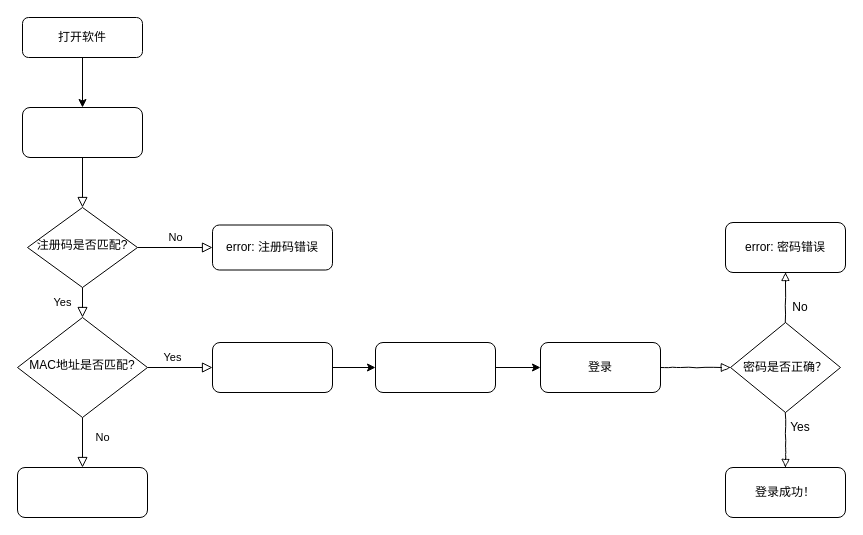
This 863x535 diagram has some shape labels left out. Each missing label, with the centre of its shape:
"error: 硬件地址不匹配" belongs at point (82, 492).
"注册" belongs at point (435, 367).
"输入软件注册码 (MAC地址)" belongs at point (82, 132).
"进入系统" belongs at point (272, 367).
